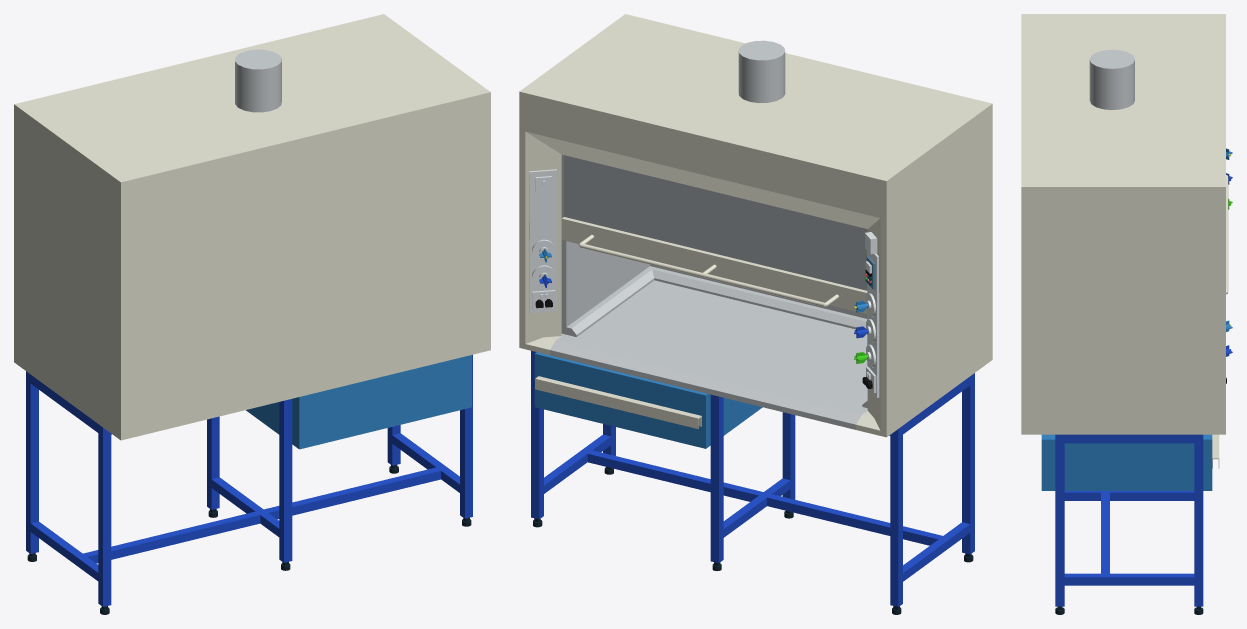
Rendered from machine 2.glb.
3 renders of one model, left to right at view 1: azimuth 30°, elevation 25°; view 2: azimuth 150°, elevation 25°; view 3: azimuth 270°, elevation 25°, orthographic. The views are drawn at different scales.
Visible parts, largest first — view 1: machine 3; view 2: machine 3; view 3: machine 3.
Part boxes in pixels (x1,y1,x2,y2): machine 3: (14,14,490,614); machine 3: (519,14,992,614); machine 3: (1021,14,1232,614).
Size of the model in its own units: 1.8 by 2.27 by 0.9288.
